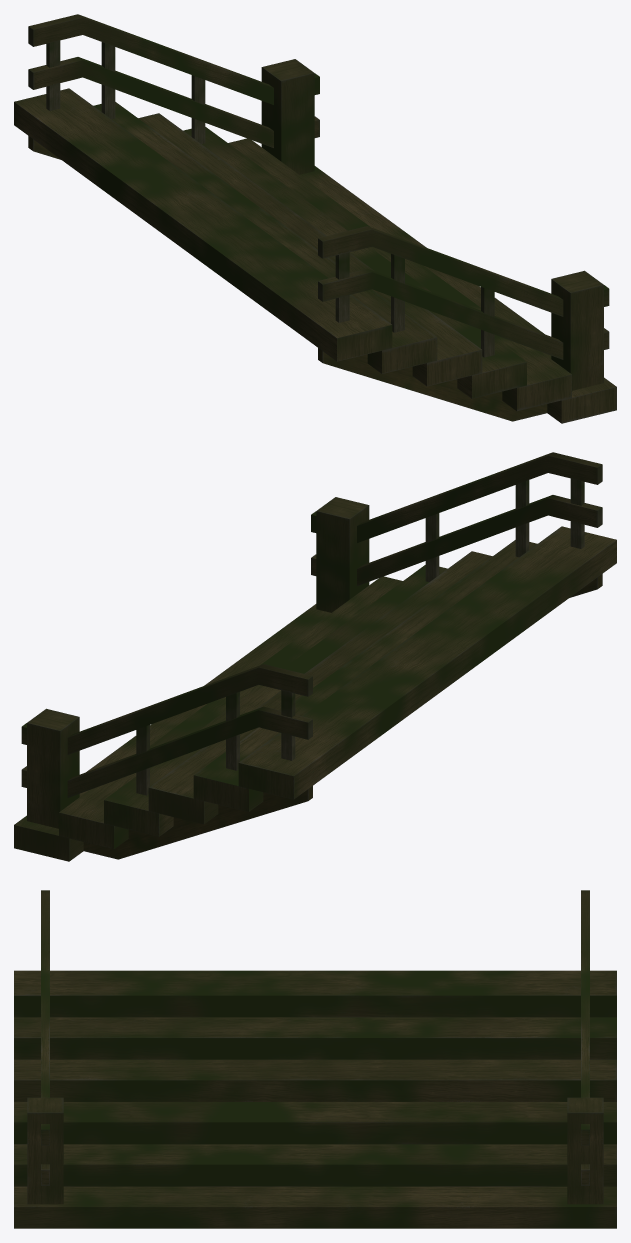
Rendered from stair_shrine_outside_01.fbx.
3 views of the same model, one above another, from view 1: azimuth 30°, elevation 25°; view 2: azimuth 150°, elevation 25°; view 3: azimuth 270°, elevation 25° (orthographic). The views are drawn at different scales.
Visible parts, largest first — view 1: stair_shrine_outside_03; view 2: stair_shrine_outside_03; view 3: stair_shrine_outside_03.
Part boxes in pixels (x1,y1,x2,y2): stair_shrine_outside_03: [14, 14, 616, 423]; stair_shrine_outside_03: [14, 452, 616, 861]; stair_shrine_outside_03: [14, 890, 616, 1228].
Bounding box in the file's own units: 169 × 128 × 330.
Materials: 1 (1 with a texture image).
